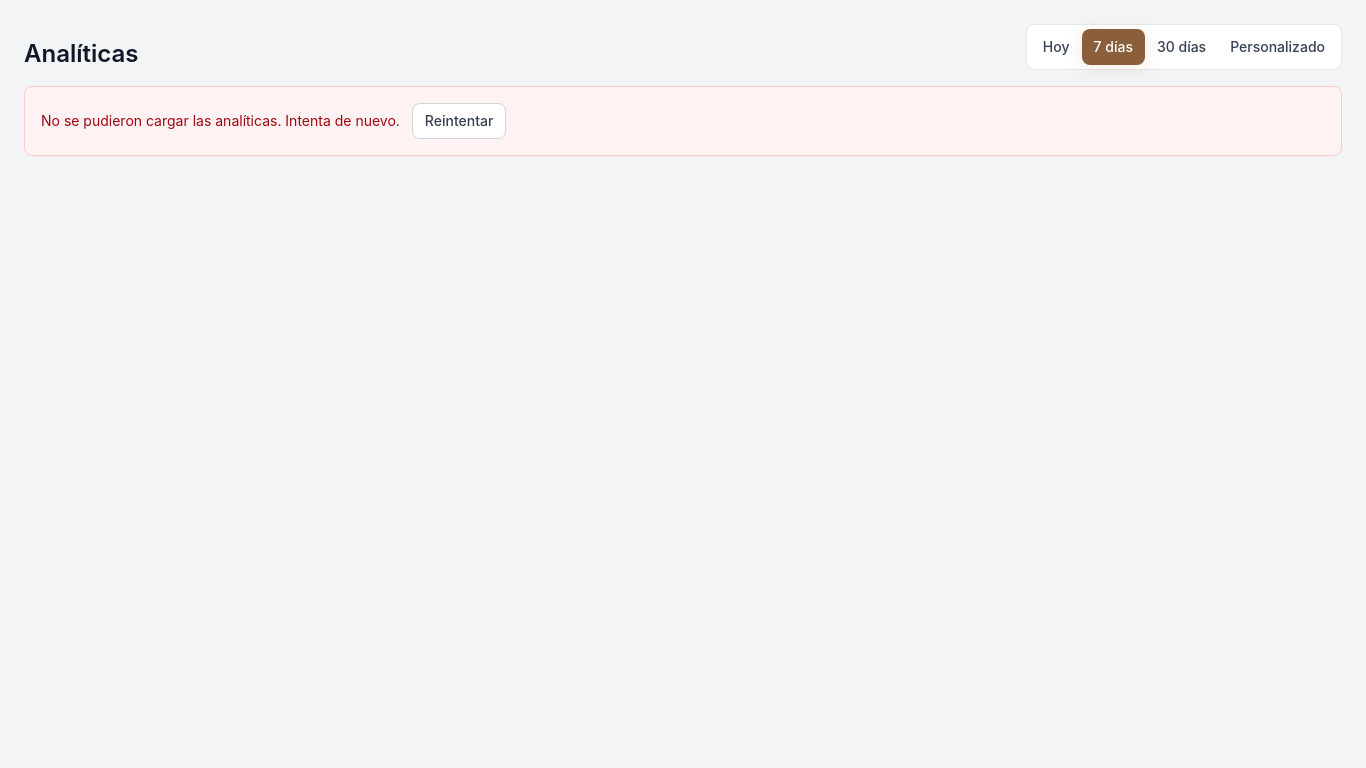
Analytics (tenant admin) › retries after an error
Click the button "Reintentar" at (459, 121), box left=412, top=103, right=506, bottom=139
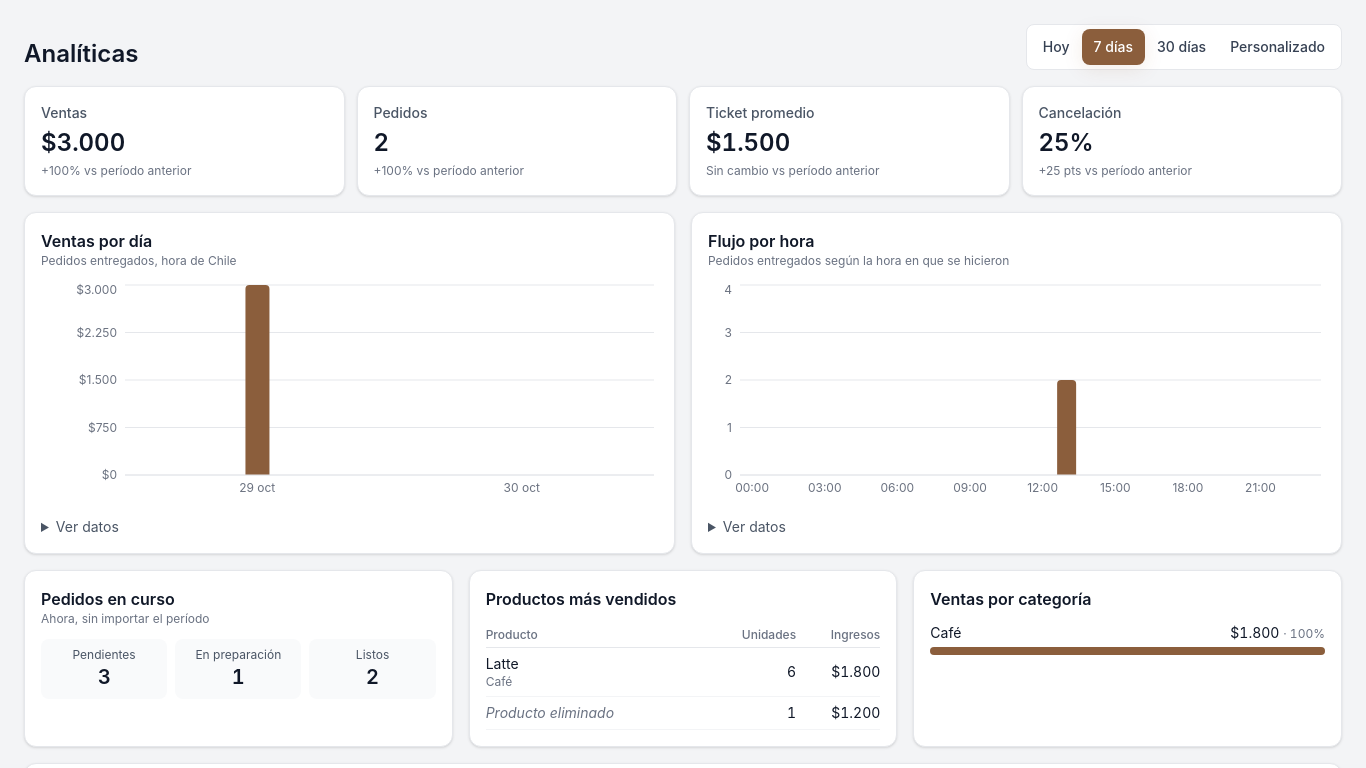
Check: the element "Ventas" is shown, box left=24, top=86, right=344, bottom=196
